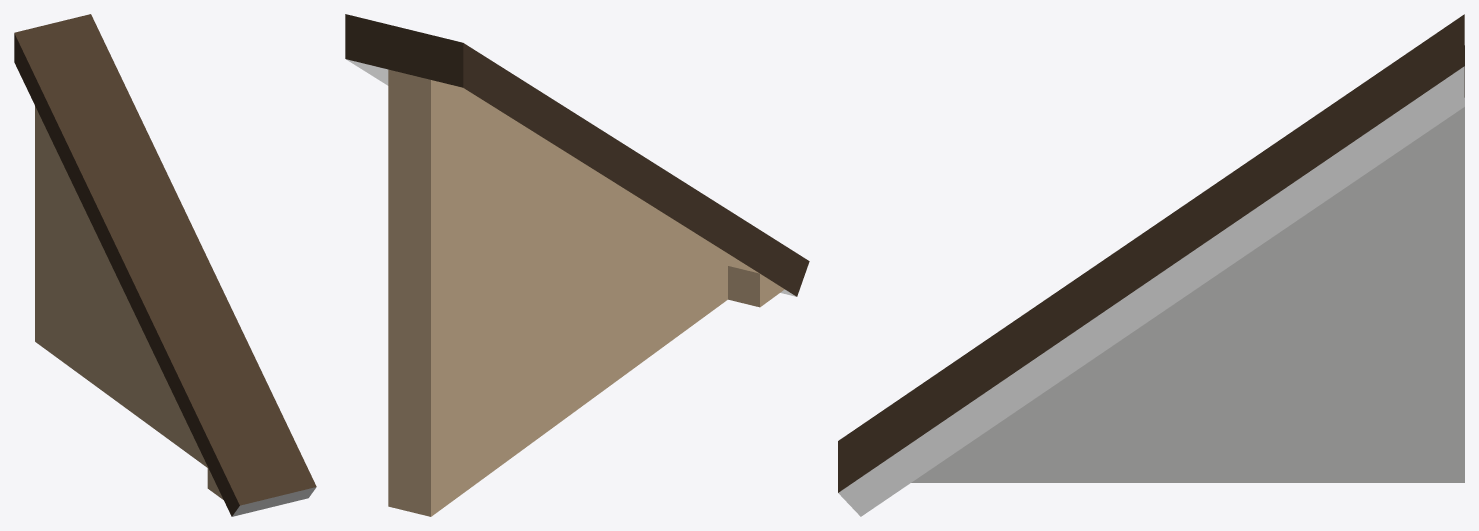
Rendered from house-roof-edge.glb.
The picture shows the model from 3 angles, left to right: view 1: azimuth 30°, elevation 25°; view 2: azimuth 150°, elevation 25°; view 3: azimuth 270°, elevation 25°; orthographic projection. The views are drawn at different scales.
Visible parts, largest first — view 1: house-roof-edge; view 2: house-roof-edge; view 3: house-roof-edge.
Part boxes in pixels (x1=…): house-roof-edge: x1=14, y1=14, x2=316, y2=516; house-roof-edge: x1=345, y1=14, x2=809, y2=516; house-roof-edge: x1=838, y1=14, x2=1464, y2=516.
Size of the model in its own units: 1.1 by 4.45 by 5.6.
Materials: 1 (1 with a texture image).
